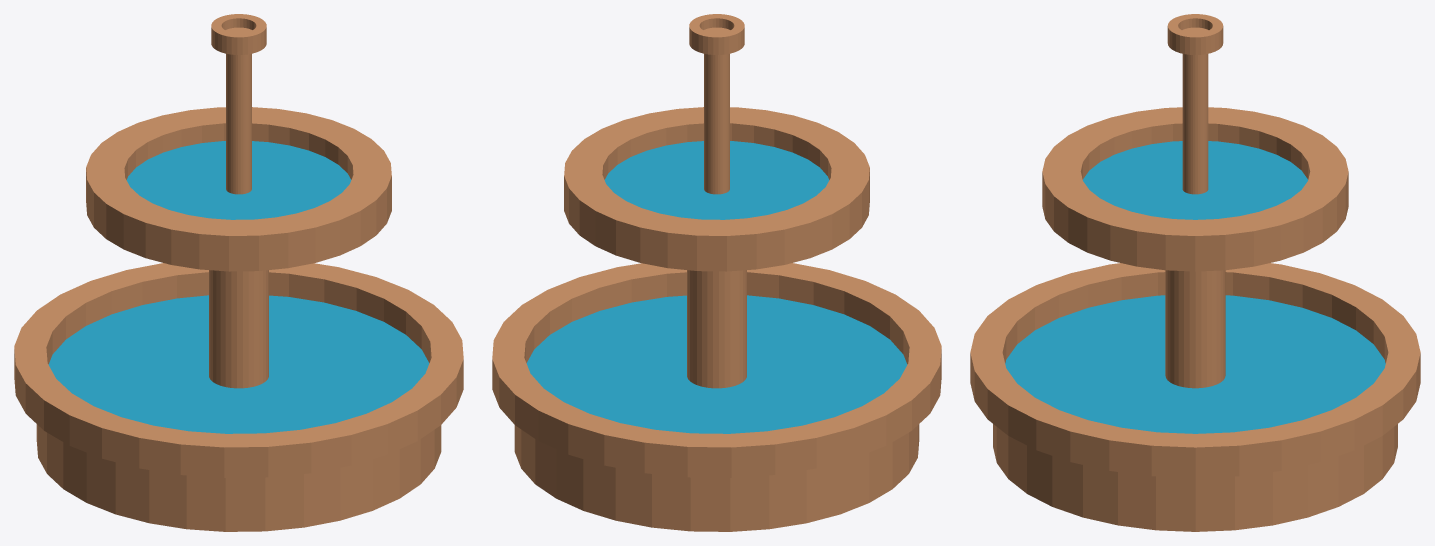
The model's file is fuente-color.fbx.
The picture shows the model from 3 angles, left to right: view 1: azimuth 30°, elevation 25°; view 2: azimuth 150°, elevation 25°; view 3: azimuth 270°, elevation 25°; orthographic projection.
Visible parts, largest first — view 1: Cylinder; view 2: Cylinder; view 3: Cylinder.
Part boxes in pixels (box(x1,y1,x2,y2)): Cylinder: box(14, 14, 463, 531); Cylinder: box(492, 14, 941, 531); Cylinder: box(970, 14, 1420, 531).
Size of the model in its own units: 222 by 229 by 222.
